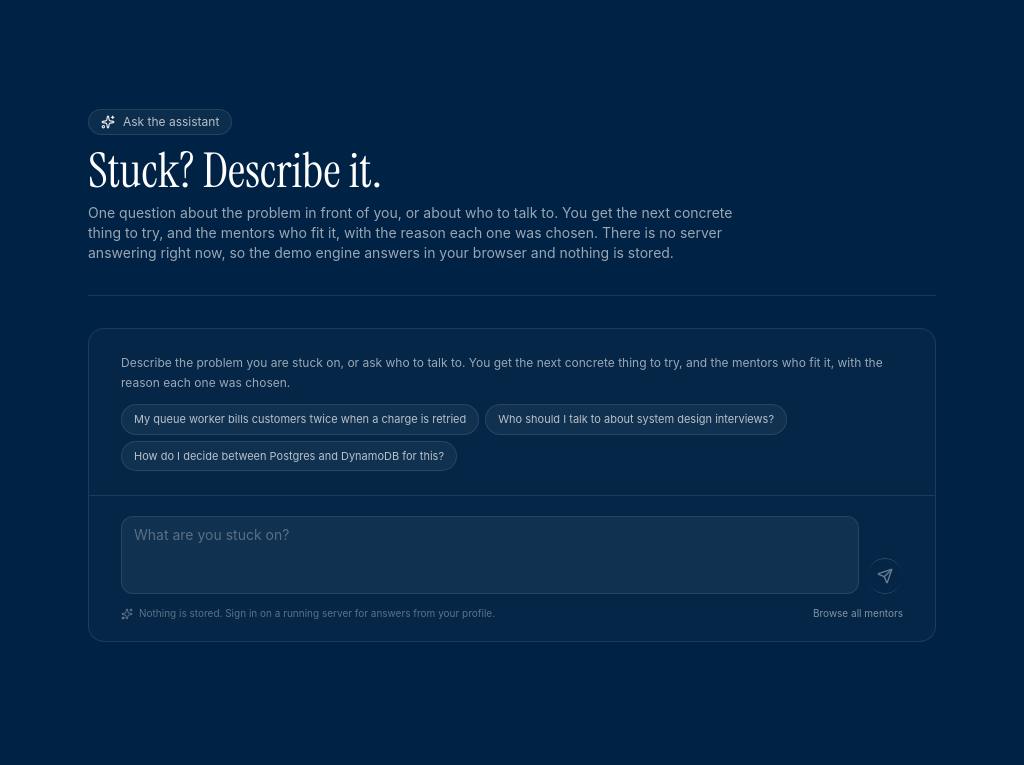
Test: the assistant screen › answers in the browser and says so when no server is reachable
In the text box named "your question": {"x": 490, "y": 555} [121,516,859,594], type "My Kafka consumer keeps reprocessing an offset"
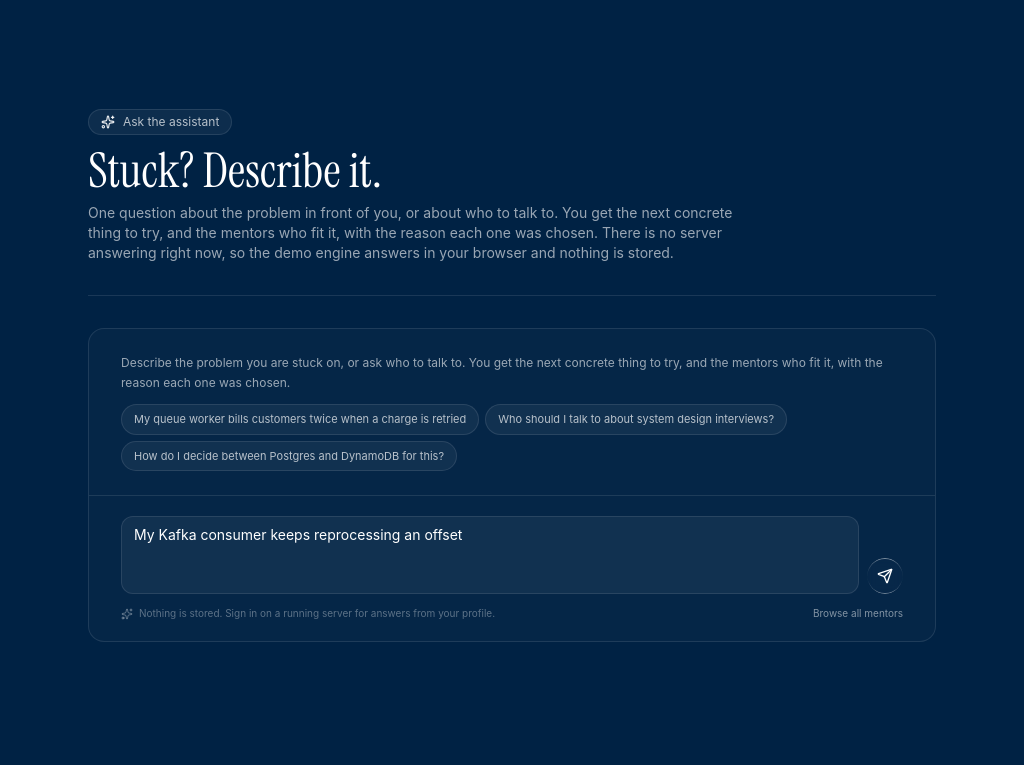
Click the button named "send question": {"x": 885, "y": 576} [867,558,903,594]
(page scrolled)
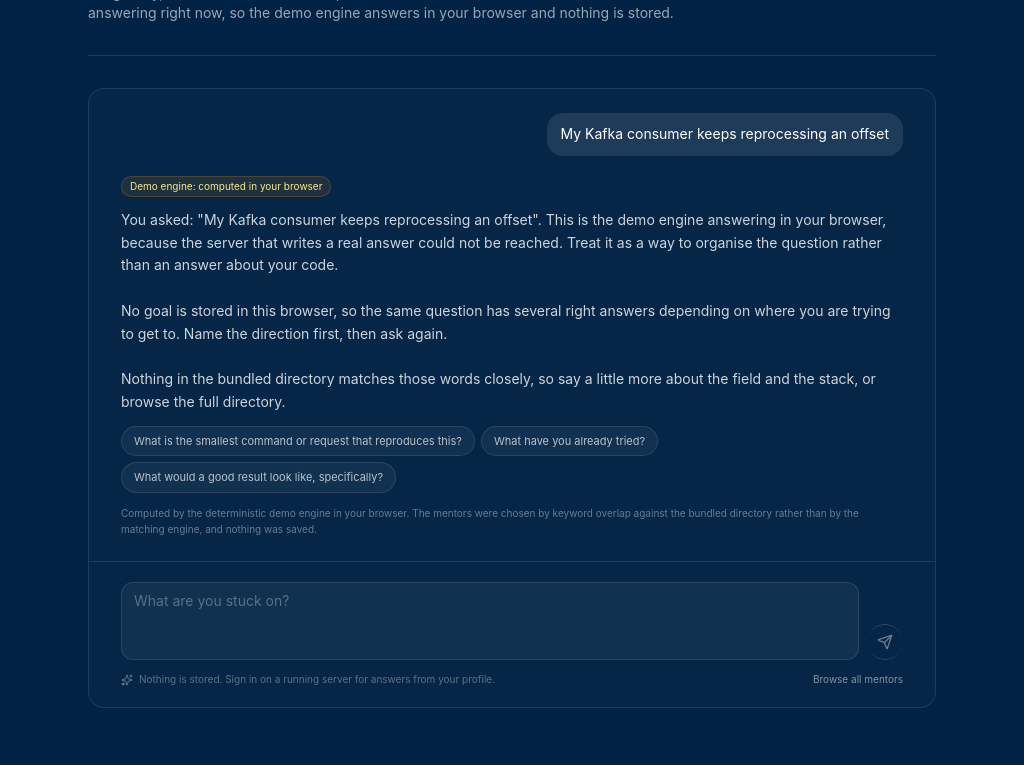
Check: the text "Demo engine: computed in your browser" is shown, box [121,176,331,197]
